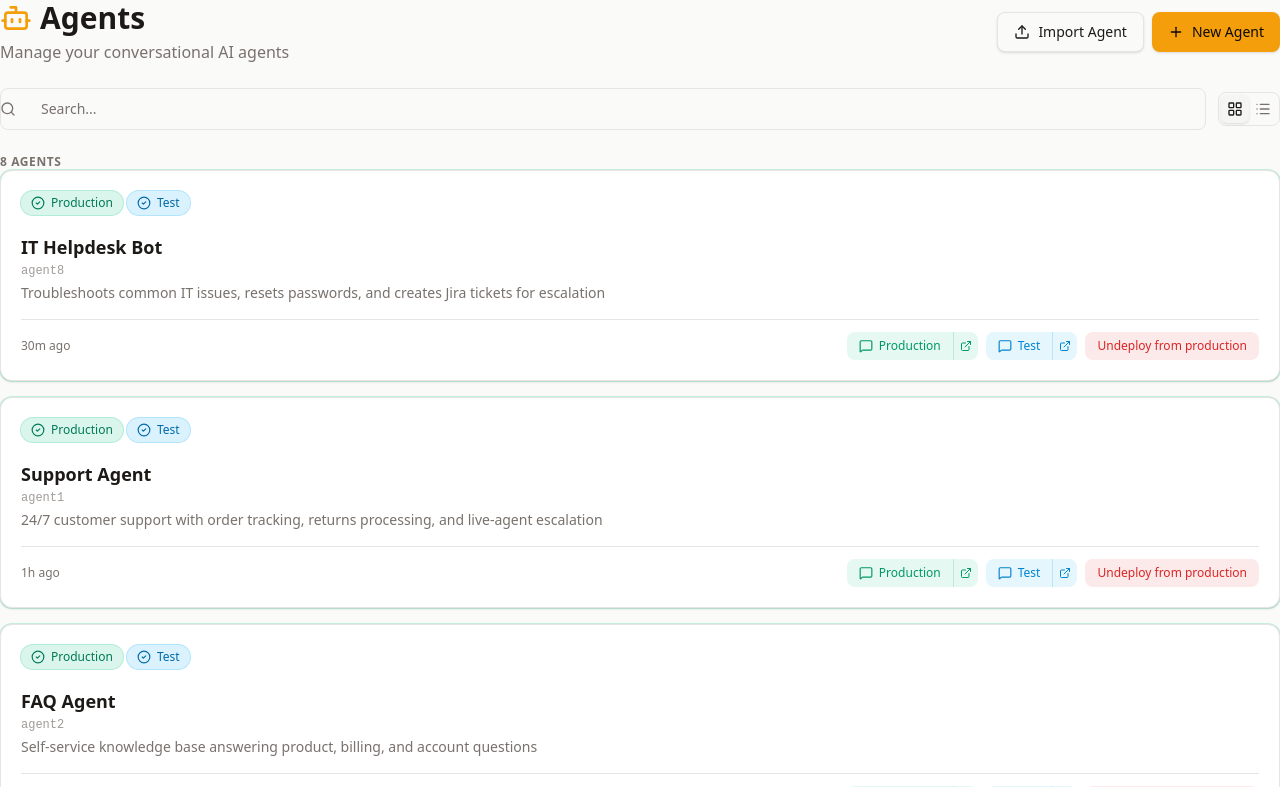
Test: AgentsPage › can switch to list view
What coordinates should you click on to do the following:
click the radio button with test id "view-toggle-list"
I would click on:
 (1263, 109)
Its box is top-left (1249, 95), bottom-right (1277, 123).
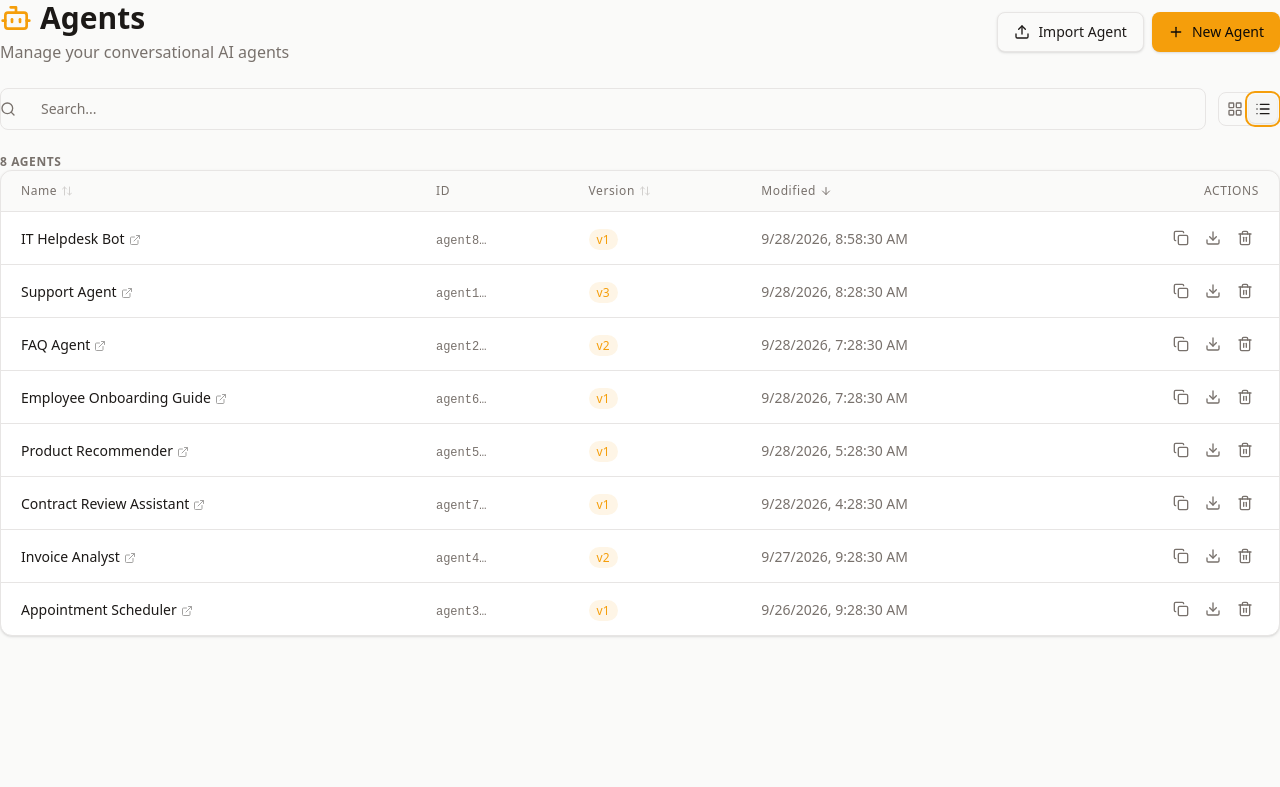
Result: the element with test id "agent-list" is shown at top-left (0, 170), bottom-right (1279, 636)
